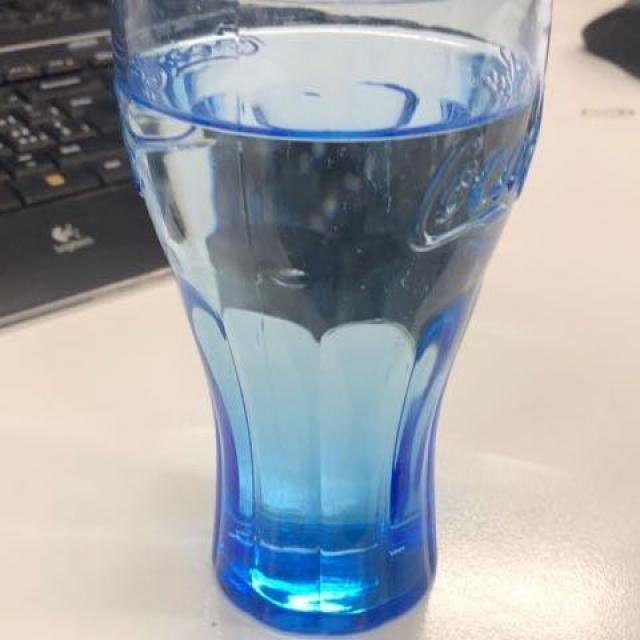water: (149, 85, 513, 578)
